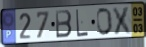2: (18, 12, 32, 41)
7: (36, 10, 51, 41)
B: (55, 9, 73, 40)
L: (75, 8, 90, 38)
O: (96, 7, 114, 37)
X: (112, 5, 134, 36)
